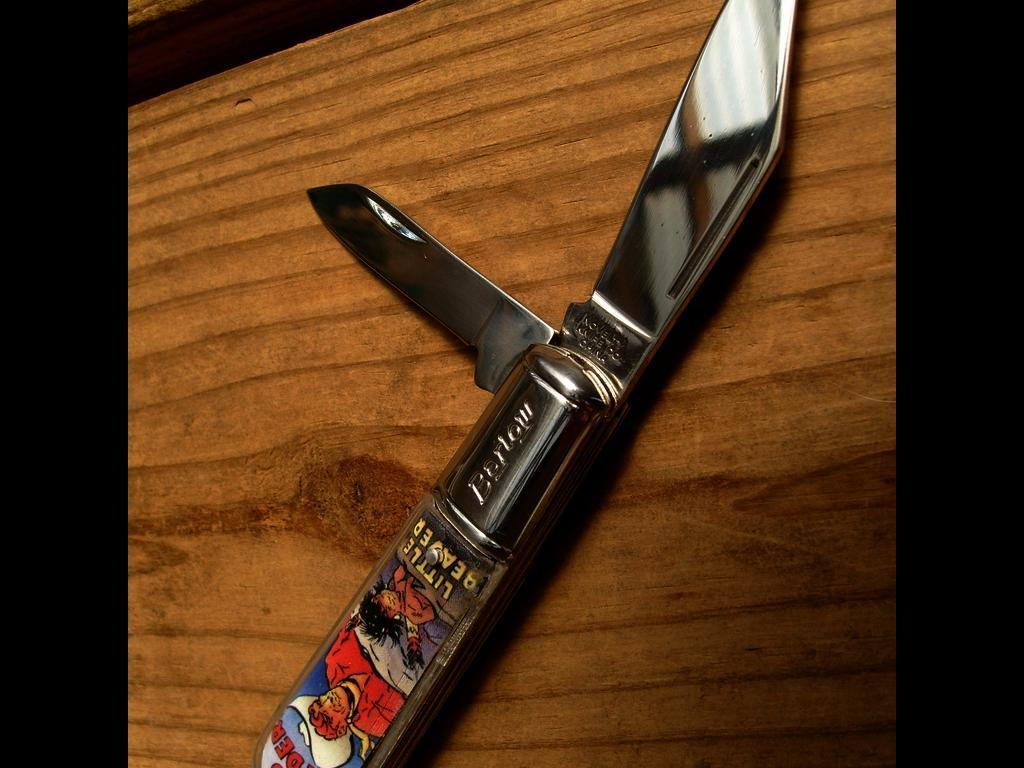melee: (245, 0, 817, 768)
